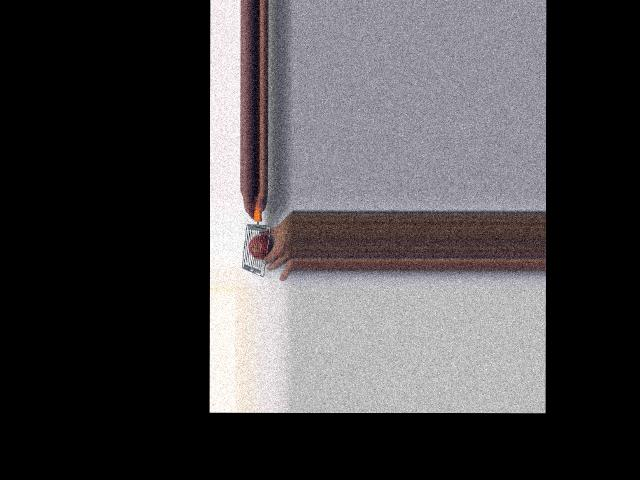tomato: (249, 234, 271, 258)
